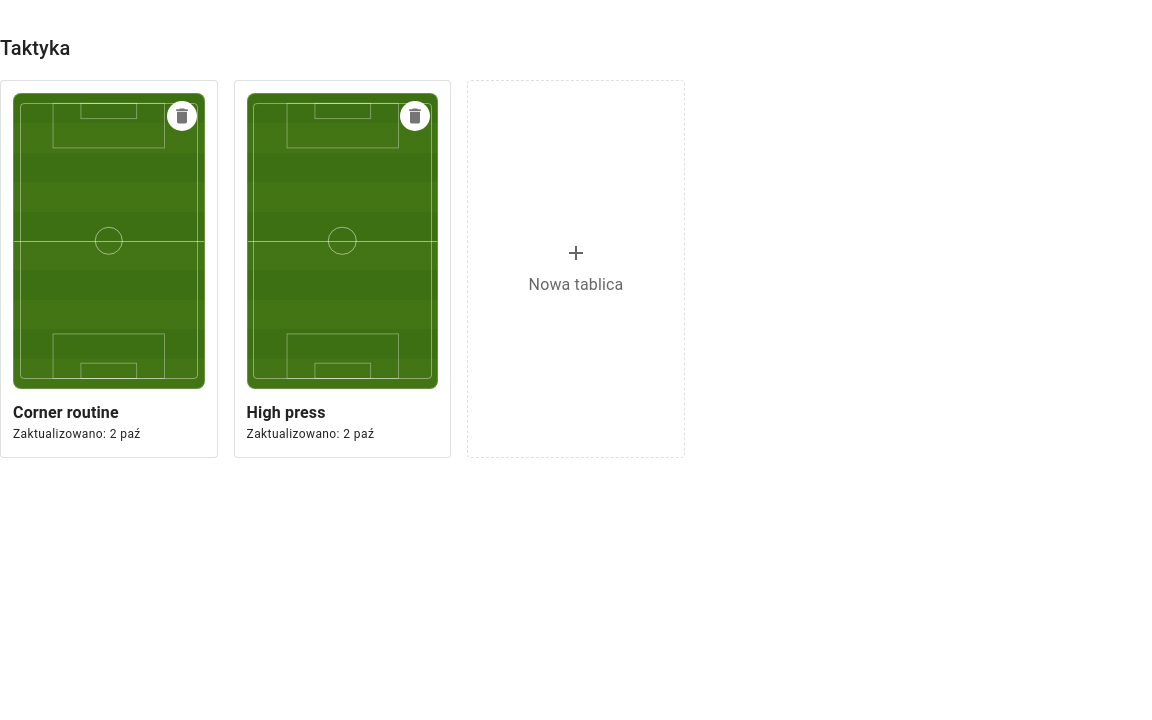
it: creating a board › creates an empty board with the given name
Expected: the text "Nowa tablica" is shown, [529, 273, 623, 297]
Click the button "Nowa tablica" at (576, 269), box [468, 81, 684, 457]
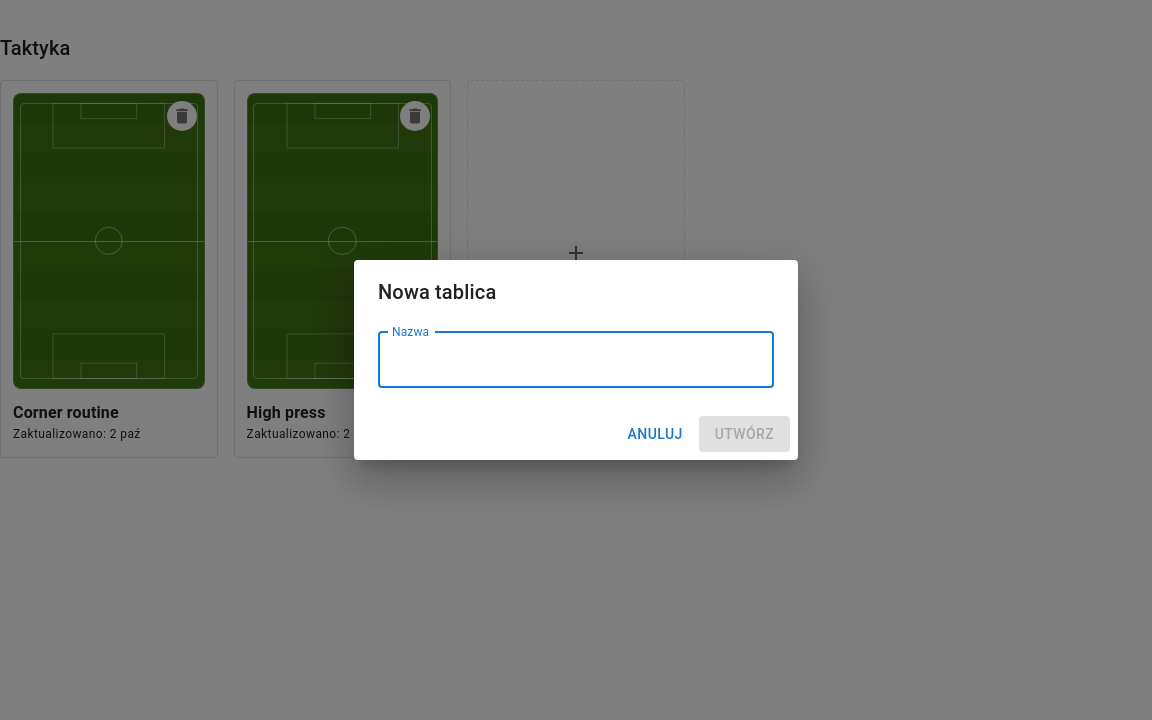
Type "  Throw-in  " into the field labelled "Nazwa" at (576, 360), box [378, 332, 774, 388]
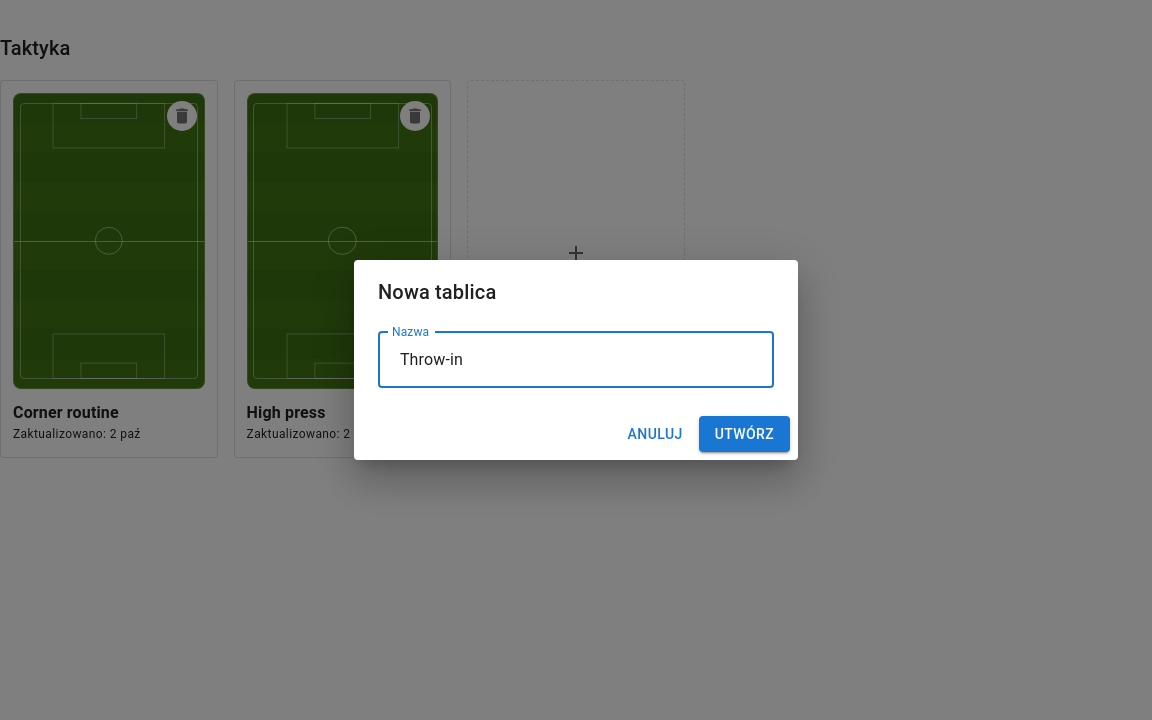
Click the button "Utwórz" at (744, 434), box [699, 416, 790, 452]
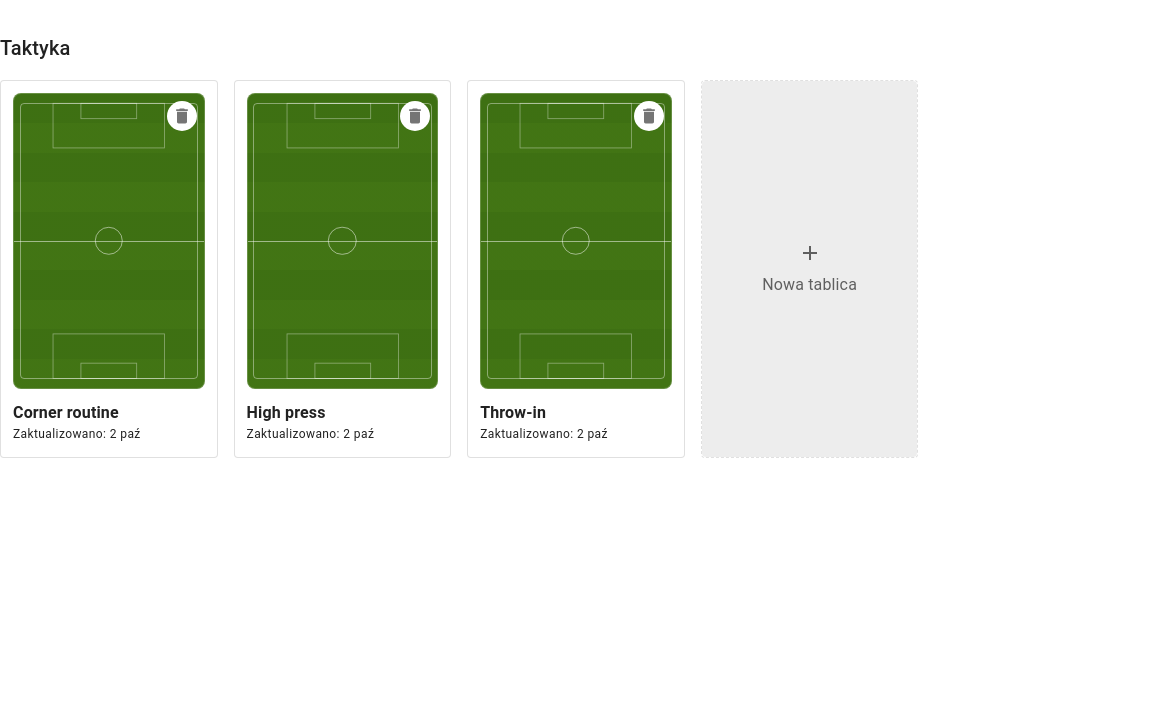
Expected: the text "Throw-in" is shown, [480, 403, 546, 422]
Expected: the dialog is gone
